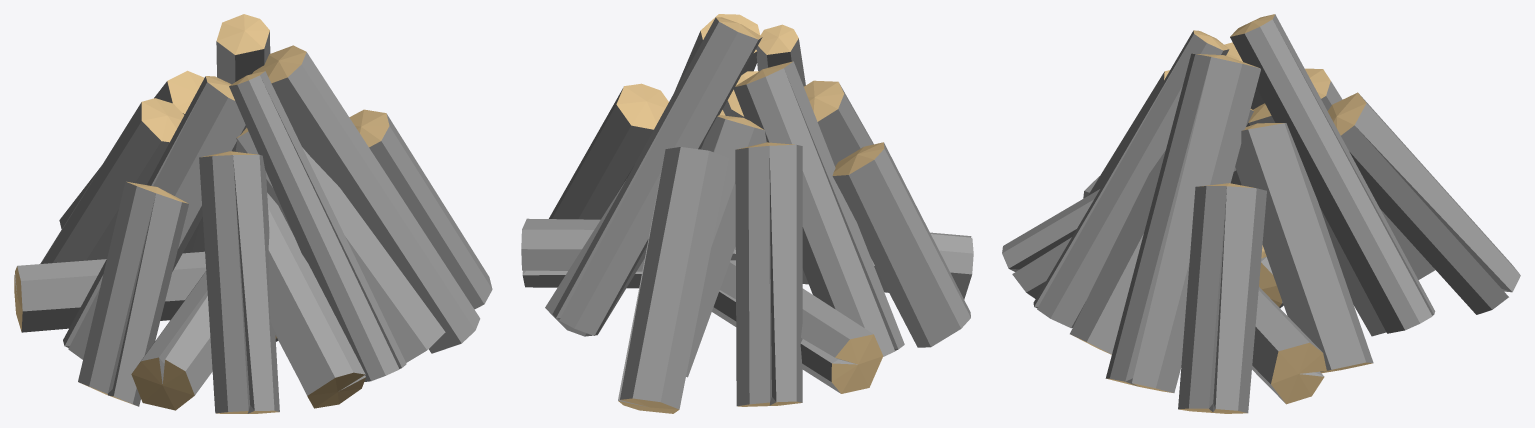
File: PT_Camp_Fire_01.fbx
3 renders of one model, left to right at view 1: azimuth 30°, elevation 25°; view 2: azimuth 150°, elevation 25°; view 3: azimuth 270°, elevation 25°, orthographic.
Parts seen in each view (by area): view 1: PT_Camp_Fire_01; view 2: PT_Camp_Fire_01; view 3: PT_Camp_Fire_01.
Part boxes in pixels (<box>): PT_Camp_Fire_01: <box>14,14,492,413</box>; PT_Camp_Fire_01: <box>521,14,973,413</box>; PT_Camp_Fire_01: <box>1002,14,1520,413</box>.
Bounding box in the file's own units: 97.77 × 71.46 × 107.
1 material, 1 textured.
